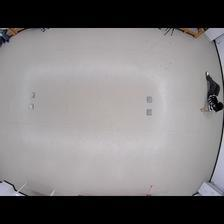fall: (200, 71, 224, 115)
